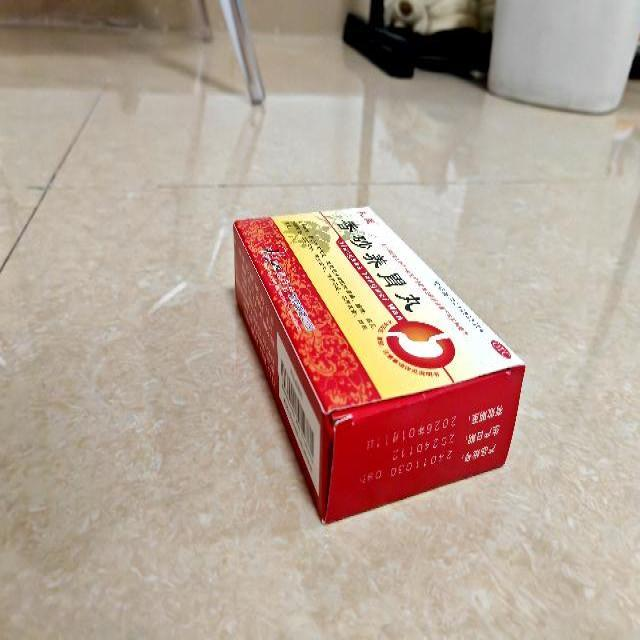box: (232, 206, 526, 525)
